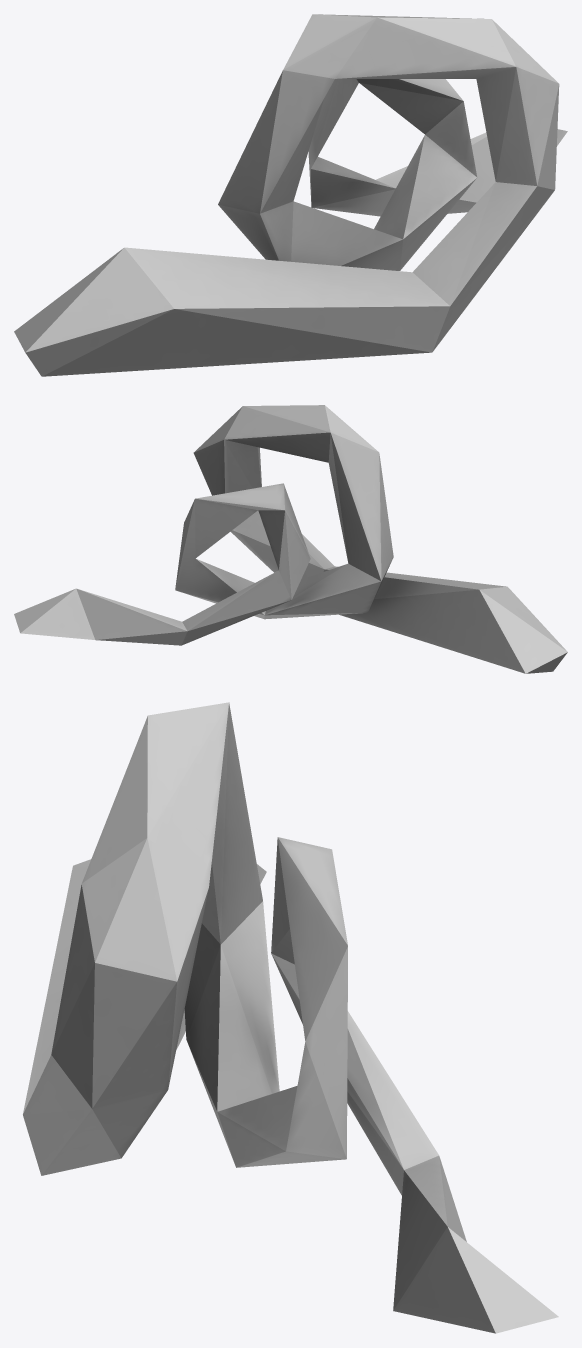
The model's file is Cloud_12.fbx.
The picture shows the model from 3 angles, top to bottom: view 1: azimuth 30°, elevation 25°; view 2: azimuth 150°, elevation 25°; view 3: azimuth 270°, elevation 25°; orthographic projection. The views are drawn at different scales.
Visible parts, largest first — view 1: Cloud_12; view 2: Cloud_12; view 3: Cloud_12.
Part boxes in pixels (bbox=[...]): Cloud_12: bbox=[14, 14, 567, 376]; Cloud_12: bbox=[14, 405, 567, 673]; Cloud_12: bbox=[23, 702, 558, 1333].
Bounding box in the file's own units: 77.8 × 35.31 × 38.32.
